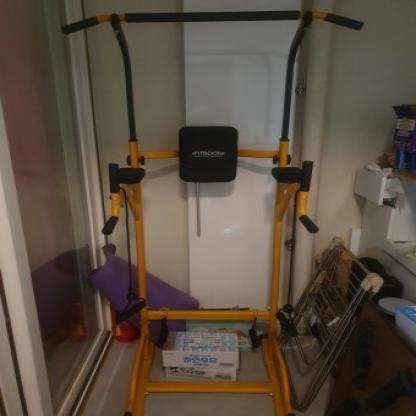chinning dipping: (62, 8, 365, 413)
